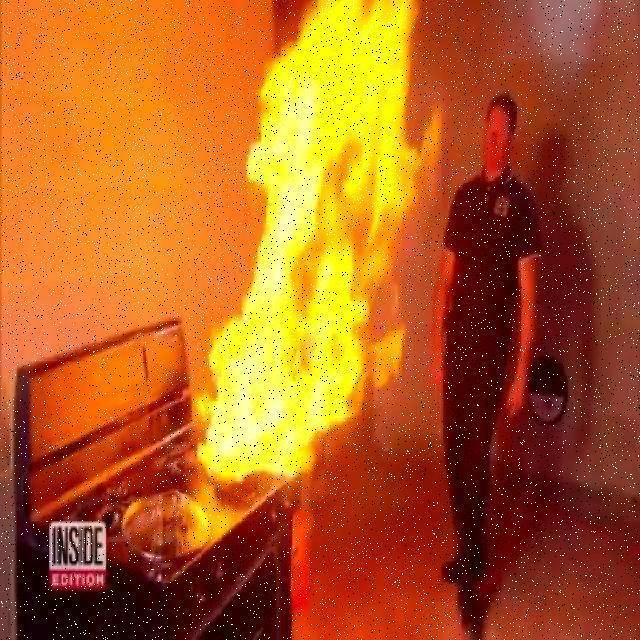fire: (149, 0, 428, 517)
